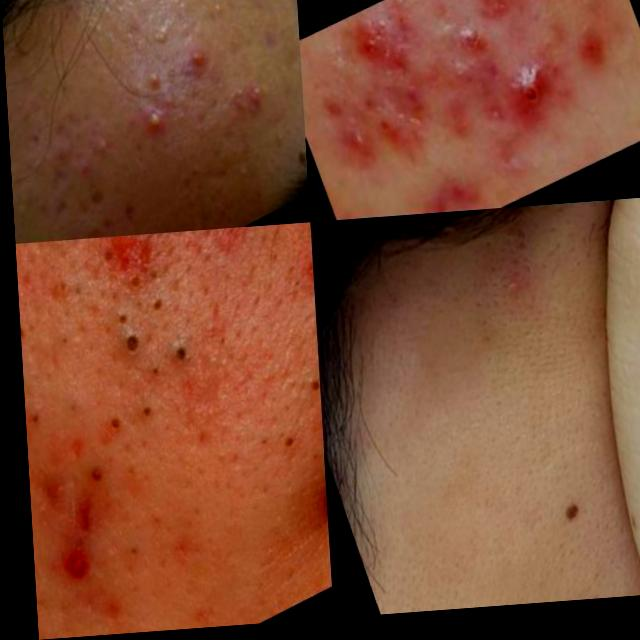8: (36, 526, 101, 607), (334, 16, 405, 82), (570, 20, 611, 84)
9: (498, 54, 555, 125), (130, 101, 179, 154), (173, 36, 220, 79)
blackheads: (71, 175, 106, 230), (235, 83, 268, 139), (110, 191, 144, 237), (41, 193, 76, 235)
dark spot: (104, 296, 201, 412), (70, 390, 162, 462), (265, 425, 299, 474), (286, 371, 316, 420), (122, 233, 184, 256), (40, 239, 81, 267), (16, 349, 33, 416), (29, 620, 76, 640), (299, 256, 311, 316)
